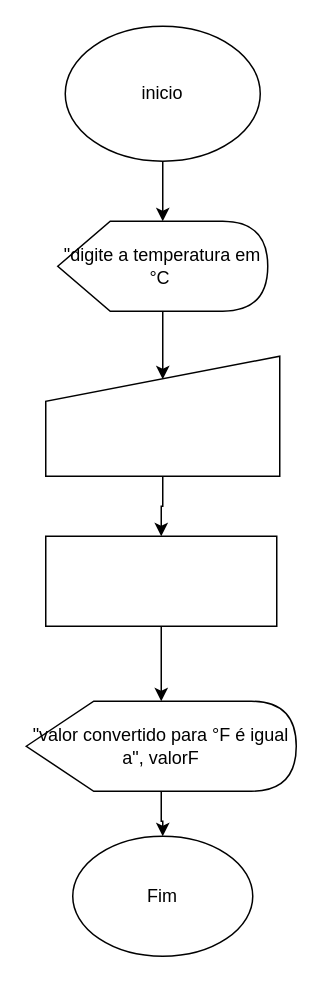
The diagram is 323 pixels wide and 983 high, and some of its shapes have lost their labels. Each missing label, with the centre of its shape:
"grausC" belongs at point (162, 415).
"valorF <- 9 * grausC /5 + 32" belongs at point (160, 580).
